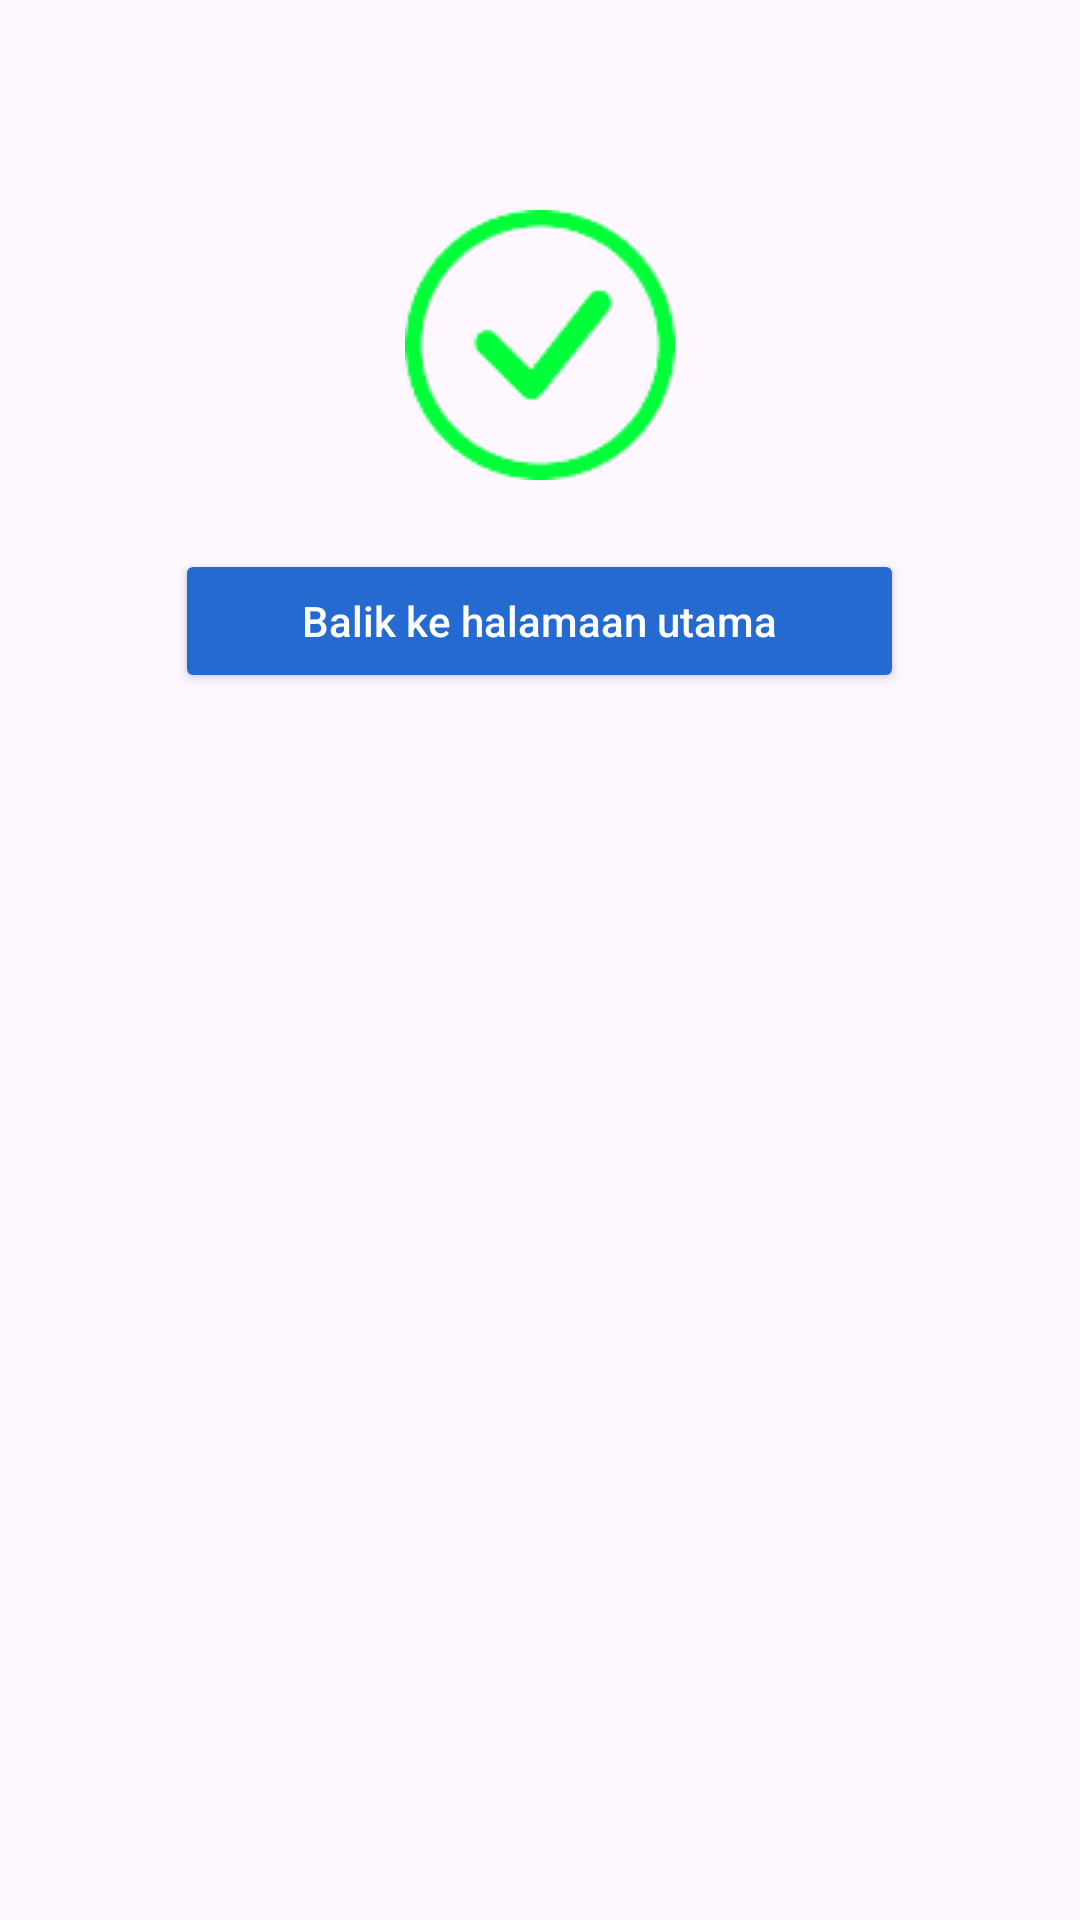

Icons on this 1080 x 1920 Android screen, each with its box as (x1, y1, x2, y2):
agree: (405, 210, 675, 480)
